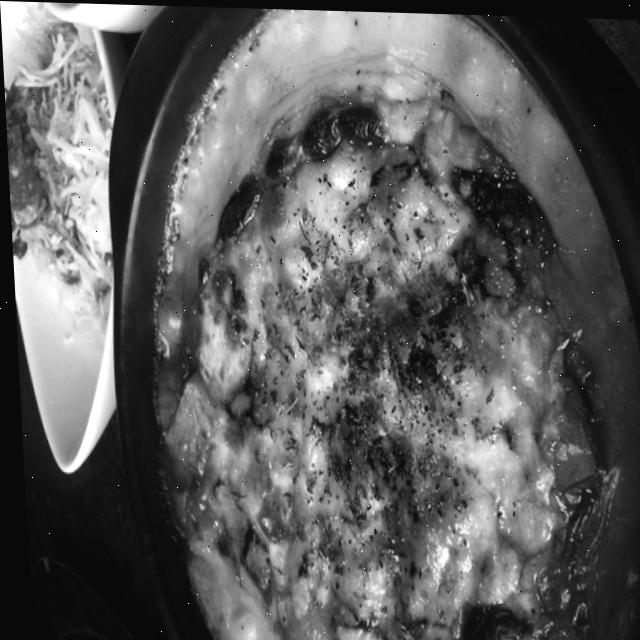米饭主食: (130, 3, 632, 640)
